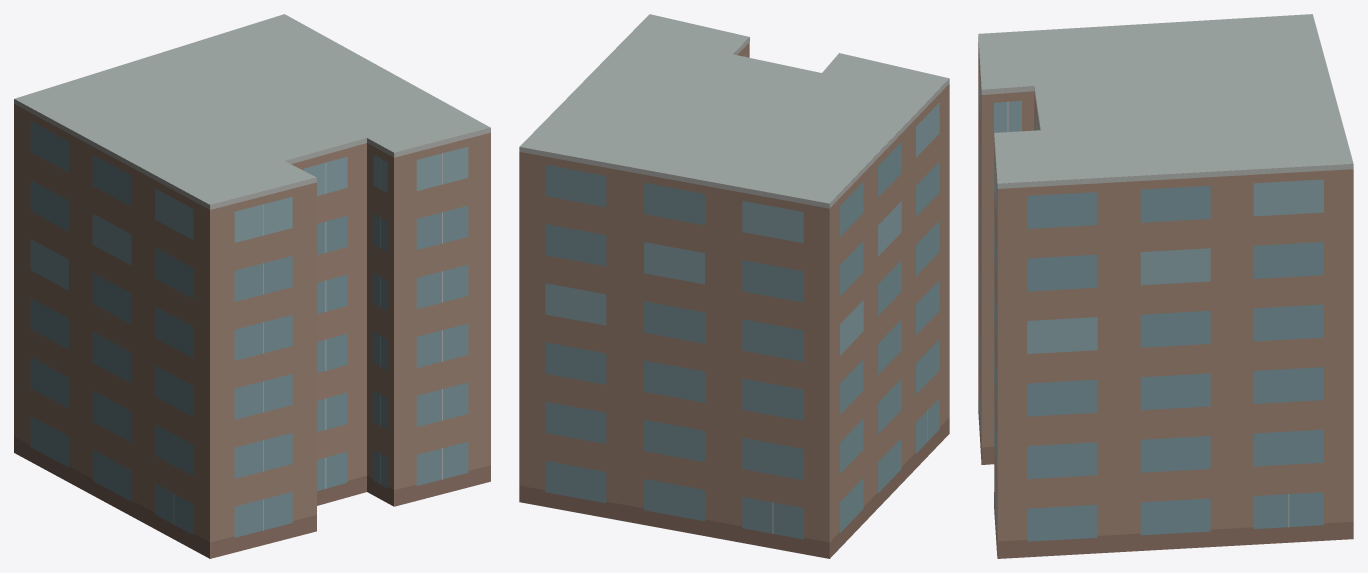
File: survey-upis-33019384.glb
3 renders of one model, left to right at view 1: azimuth 30°, elevation 25°; view 2: azimuth 150°, elevation 25°; view 3: azimuth 270°, elevation 25°, orthographic. The views are drawn at different scales.
Parts seen in each view (by area): view 1: survey-upis-33019384.tmp; view 2: survey-upis-33019384.tmp; view 3: survey-upis-33019384.tmp.
Boxes of the visible parts, left/top/right/bottom form: survey-upis-33019384.tmp: left=14, top=14, right=490, bottom=558; survey-upis-33019384.tmp: left=519, top=14, right=949, bottom=558; survey-upis-33019384.tmp: left=978, top=14, right=1353, bottom=558.
Bounding box in the file's own units: 16.79 × 17.3 × 15.7.
